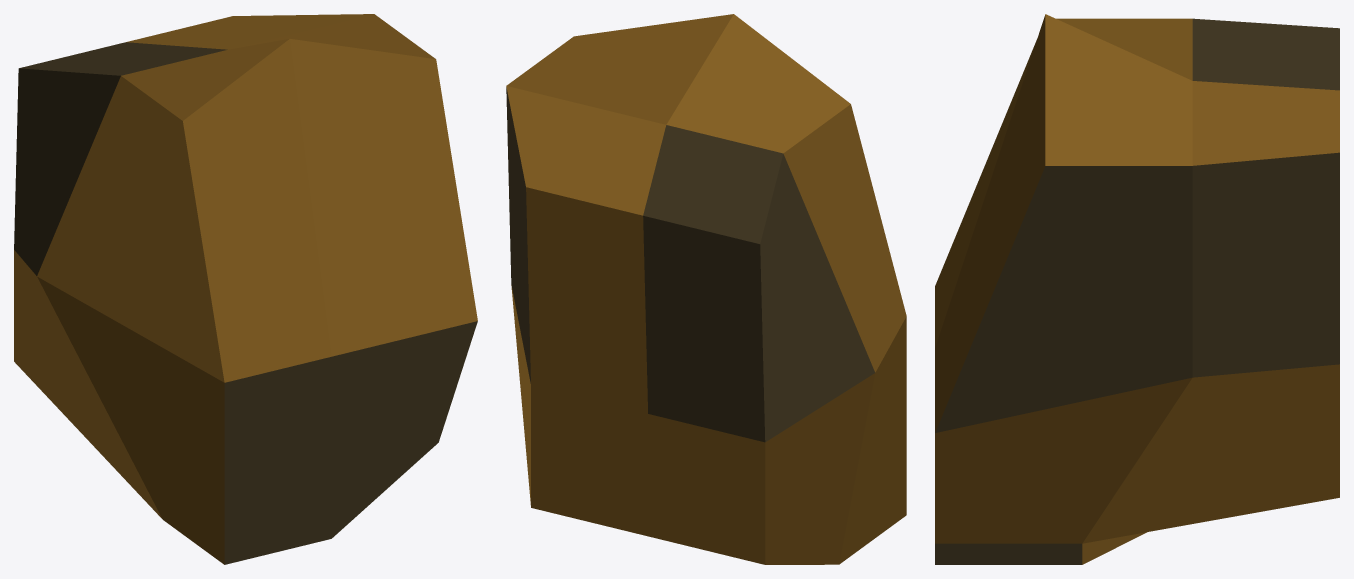
File: Rock02.fbx
3 views of the same model, side by side, from view 1: azimuth 30°, elevation 25°; view 2: azimuth 150°, elevation 25°; view 3: azimuth 270°, elevation 25° (orthographic). The views are drawn at different scales.
Visible parts, largest first — view 1: Rock 02; view 2: Rock 02; view 3: Rock 02.
Boxes of the visible parts, bbox=[...] form: Rock 02: bbox=[14, 14, 477, 564]; Rock 02: bbox=[506, 14, 906, 564]; Rock 02: bbox=[935, 14, 1339, 564].
Size of the model in its own units: 435 by 574 by 380.
